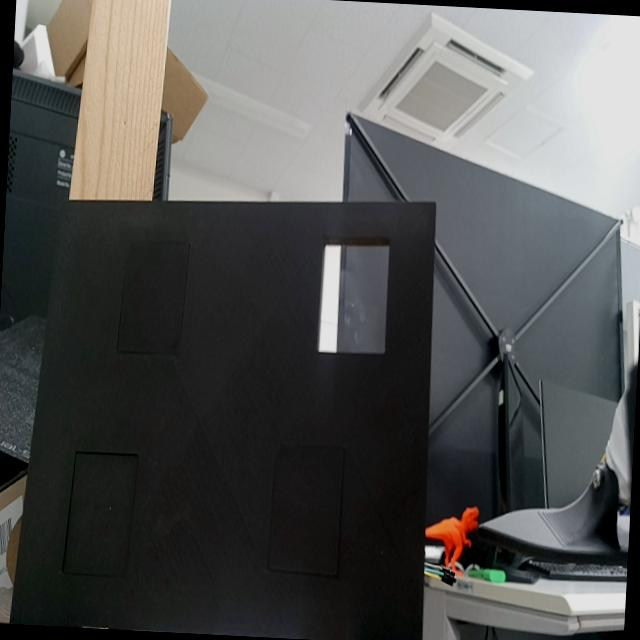Obstacle: (318, 238, 392, 355)
Wall: (33, 202, 436, 640)
